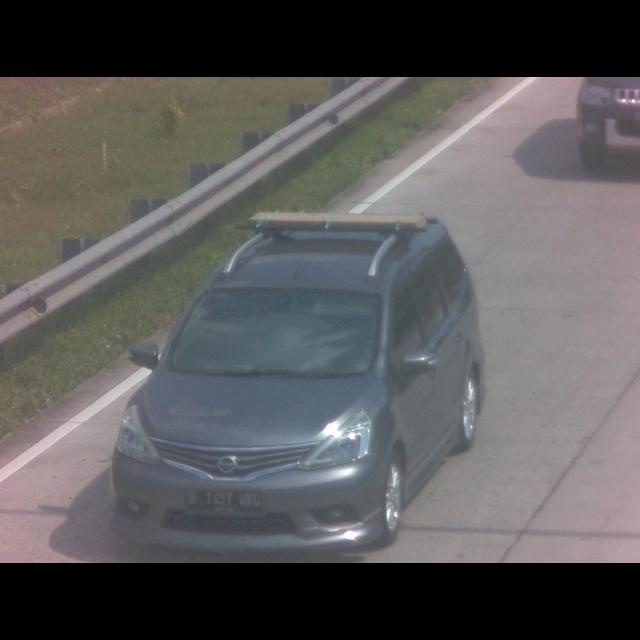plate: (181, 487, 267, 516)
